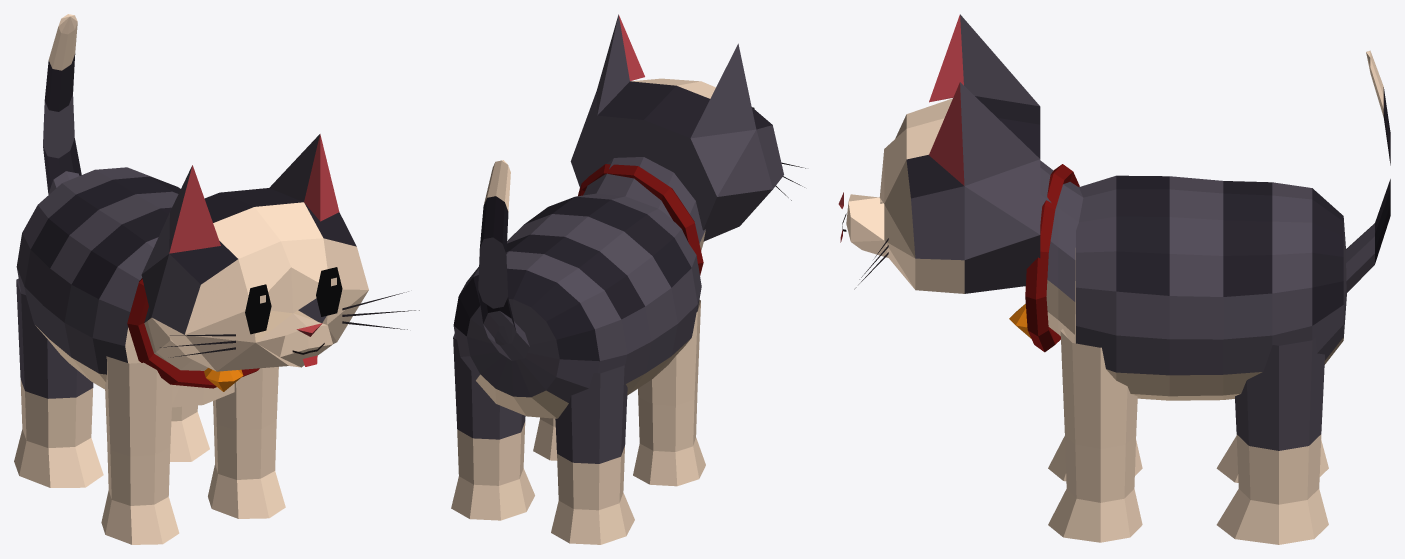
Rendered from DigPals_Cat.obj.
3 renders of one model, left to right at view 1: azimuth 30°, elevation 25°; view 2: azimuth 150°, elevation 25°; view 3: azimuth 270°, elevation 25°, orthographic. The views are drawn at different scales.
Parts seen in each view (by area): view 1: Cat_Body, Cat_Collar, Cat_Eyes, Cat_Whiskers, Cat_Bell; view 2: Cat_Body, Cat_Collar; view 3: Cat_Body, Cat_Collar.
Part boxes in pixels (x1,y1,x2,y2): Cat_Body: (14,14,368,544); Cat_Collar: (127,278,259,388); Cat_Eyes: (245,267,342,334); Cat_Whiskers: (160,291,419,357); Cat_Bell: (204,368,243,391); Cat_Body: (451,14,783,544); Cat_Collar: (578,164,703,275); Cat_Body: (846,14,1390,544); Cat_Collar: (1025,164,1079,352).
Size of the model in its own units: 1.35 by 2.22 by 2.47.
